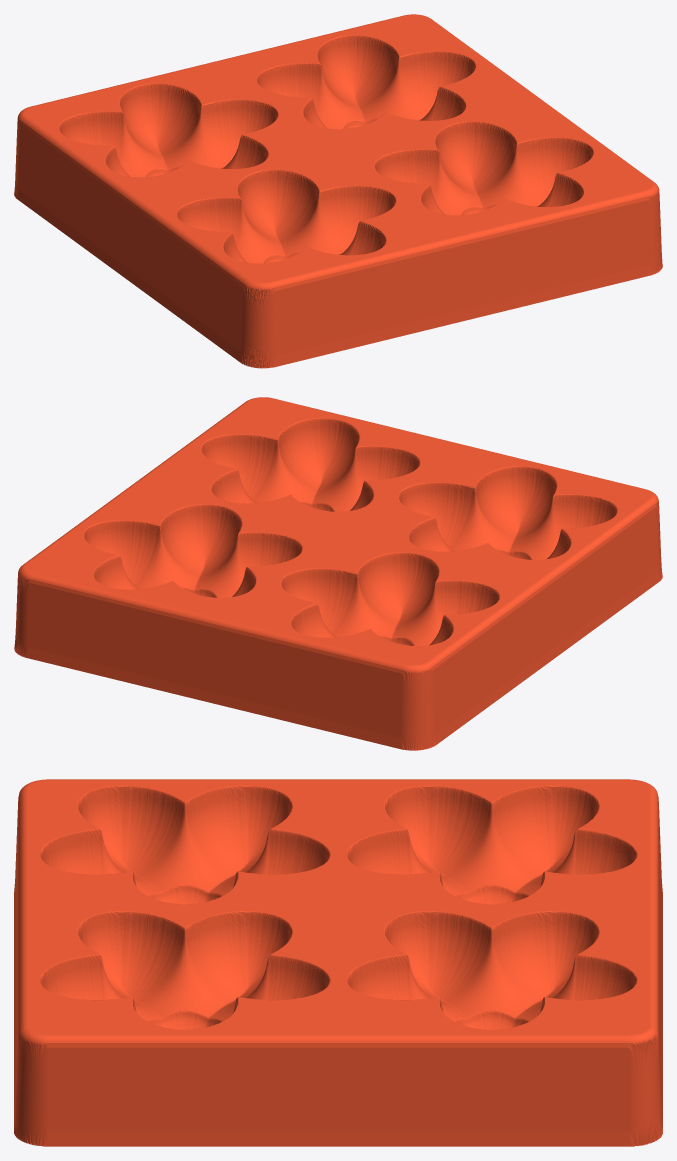
Rendered from mold.glb.
3 renders of one model, top to bottom at view 1: azimuth 30°, elevation 25°; view 2: azimuth 150°, elevation 25°; view 3: azimuth 270°, elevation 25°, orthographic. The views are drawn at different scales.
Visible parts, largest first — view 1: geometry_0; view 2: geometry_0; view 3: geometry_0.
Part boxes in pixels (box(x1,y1,x2,y2)): geometry_0: box(14, 14, 662, 368); geometry_0: box(14, 397, 662, 750); geometry_0: box(14, 779, 662, 1146).
Bounding box in the file's own units: 0.167 × 0.031 × 0.1721.
